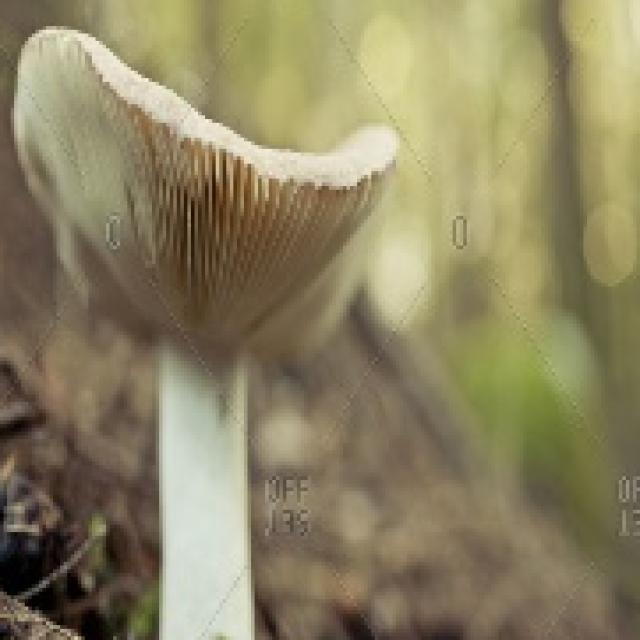mushroom: (0, 11, 407, 640)
